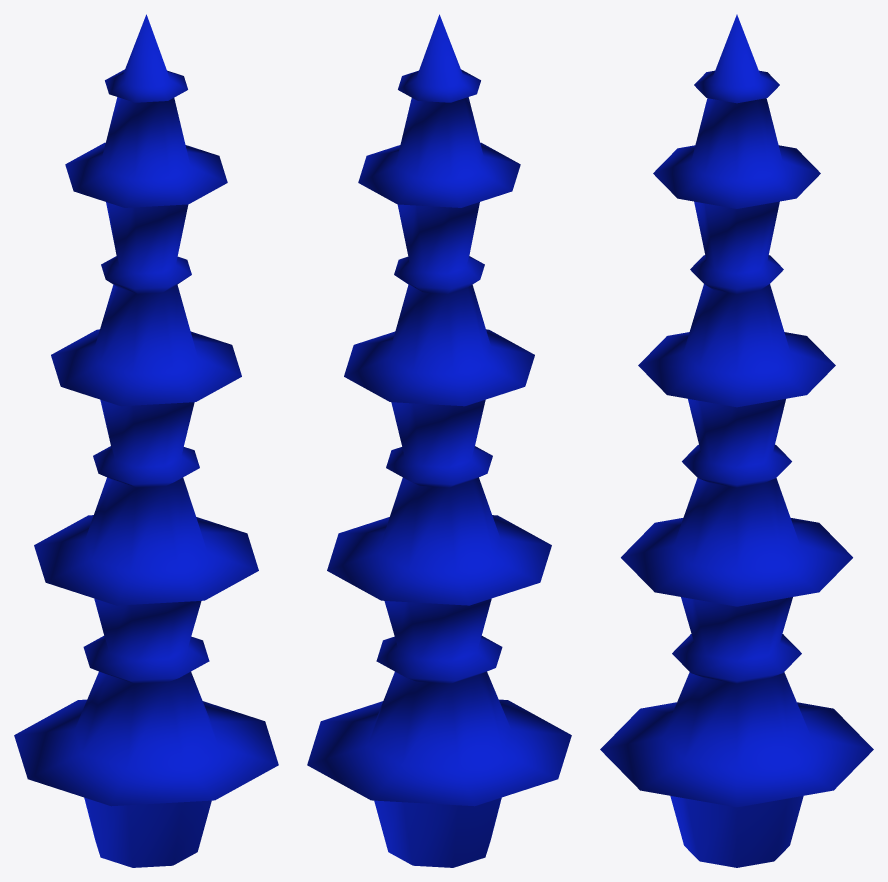
Rendered from tree3.fbx.
3 views of the same model, side by side, from view 1: azimuth 30°, elevation 25°; view 2: azimuth 150°, elevation 25°; view 3: azimuth 270°, elevation 25° (orthographic).
Visible parts, largest first — view 1: Circle.003; view 2: Circle.003; view 3: Circle.003.
Part boxes in pixels (box(x1,y1,x2,y2)): Circle.003: box(14, 14, 278, 867); Circle.003: box(307, 14, 571, 867); Circle.003: box(600, 14, 873, 867).
Bounding box in the file's own units: 259 × 866 × 259.
